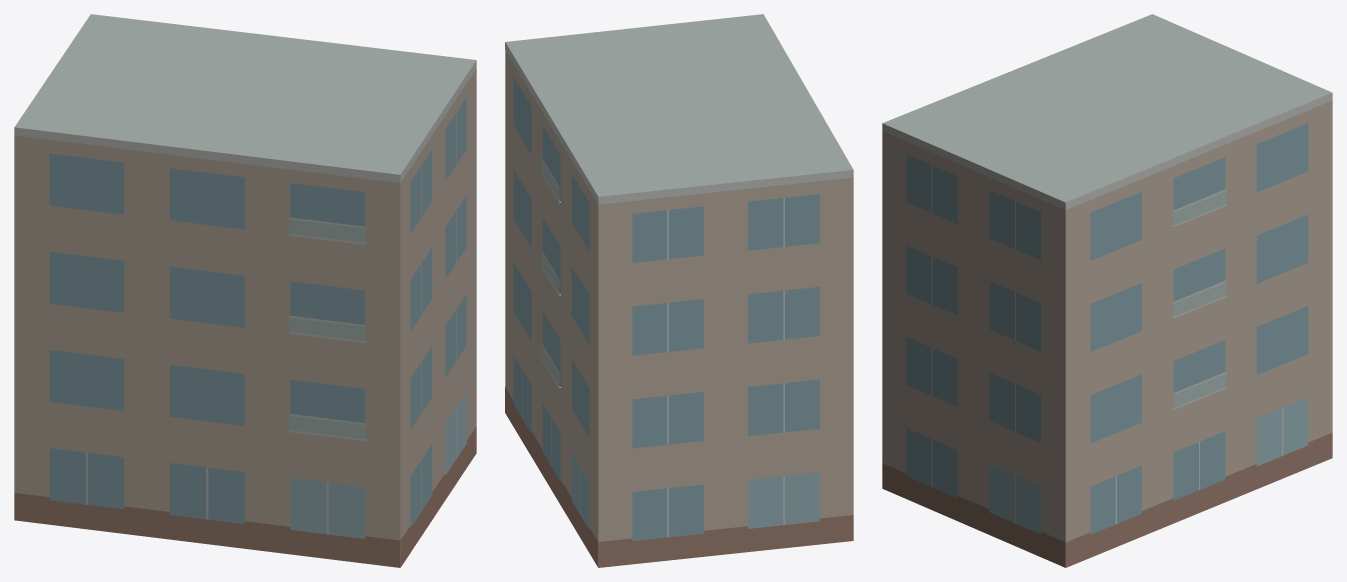
File: survey-upis-32855466.glb
The picture shows the model from 3 angles, left to right: view 1: azimuth 30°, elevation 25°; view 2: azimuth 150°, elevation 25°; view 3: azimuth 270°, elevation 25°; orthographic projection. The views are drawn at different scales.
Visible parts, largest first — view 1: survey-upis-32855466.tmp; view 2: survey-upis-32855466.tmp; view 3: survey-upis-32855466.tmp.
Boxes of the visible parts, x1,y1,x2,y2 form: survey-upis-32855466.tmp: [14, 14, 476, 567]; survey-upis-32855466.tmp: [505, 14, 853, 567]; survey-upis-32855466.tmp: [882, 14, 1332, 567].
Size of the model in its own units: 12.96 by 11.7 by 13.08.
